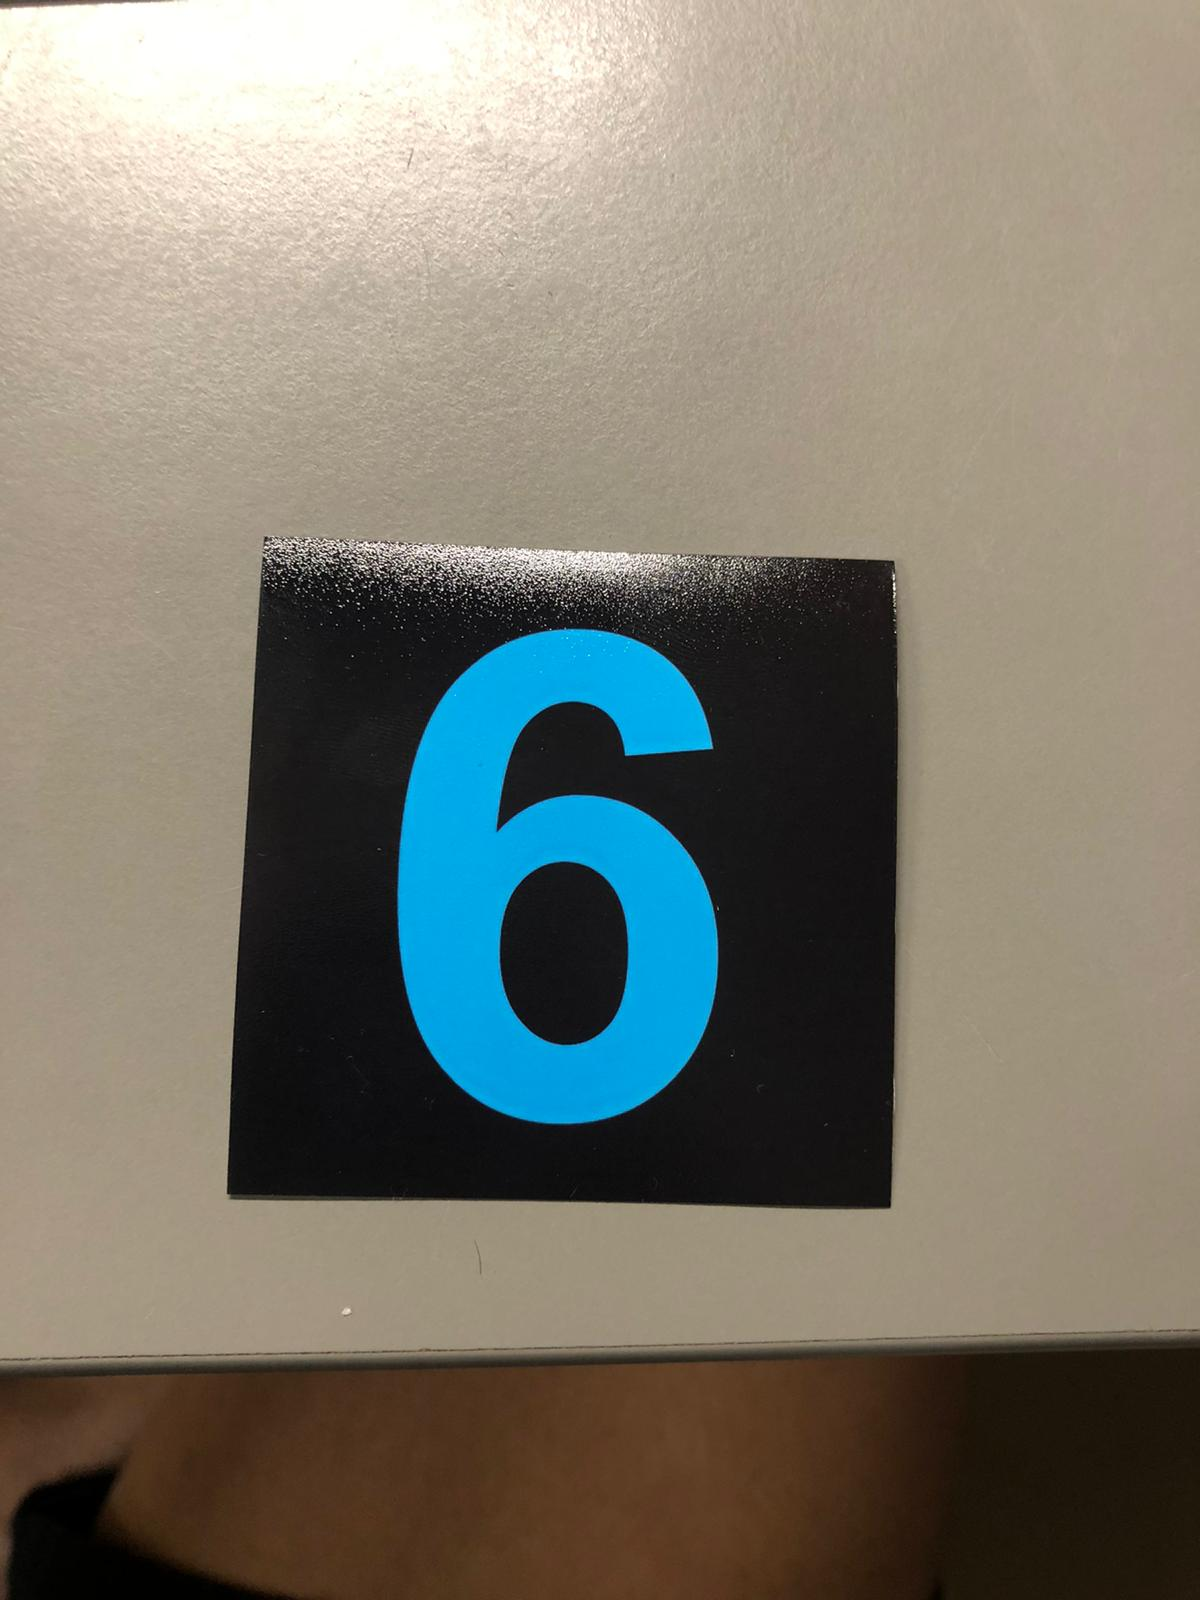Number 6: (290, 569, 834, 1184)
